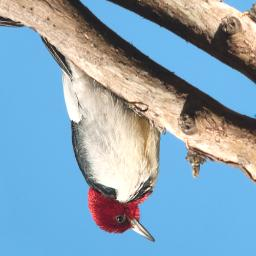Woodpecker: (0, 35, 202, 256)
